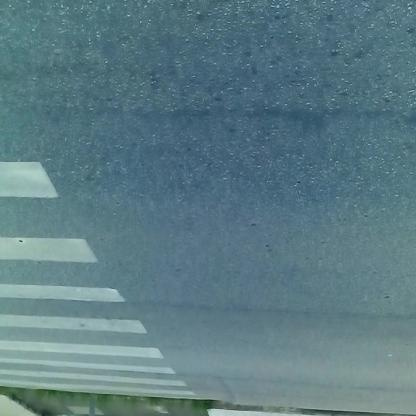crosswalk: (1, 72, 197, 406)
sidewalk: (14, 389, 361, 416)
